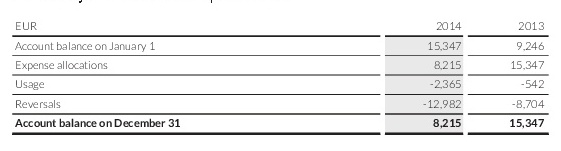table: (0, 0, 561, 151)
